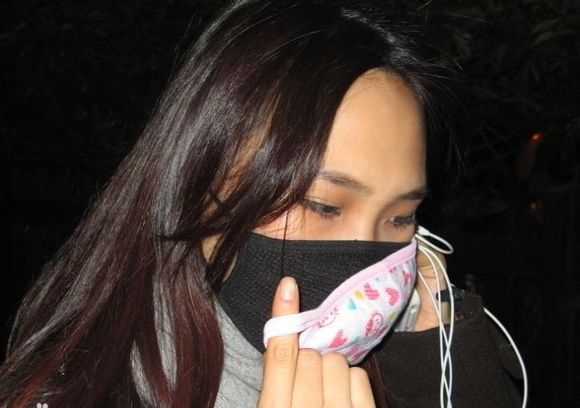face_mask: (197, 90, 424, 347)
